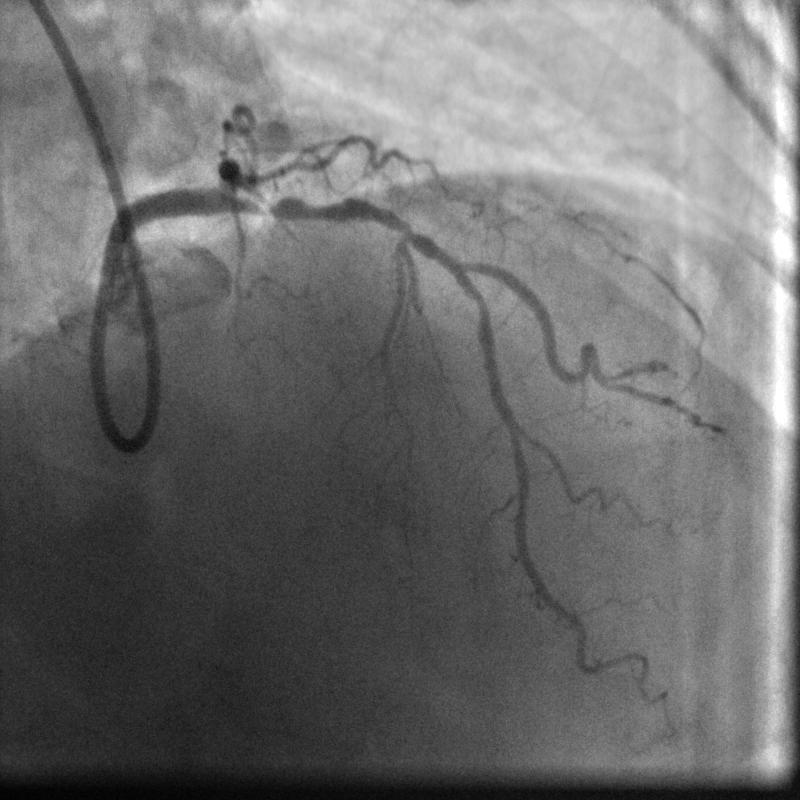Stenosis: (246, 184, 361, 228)
